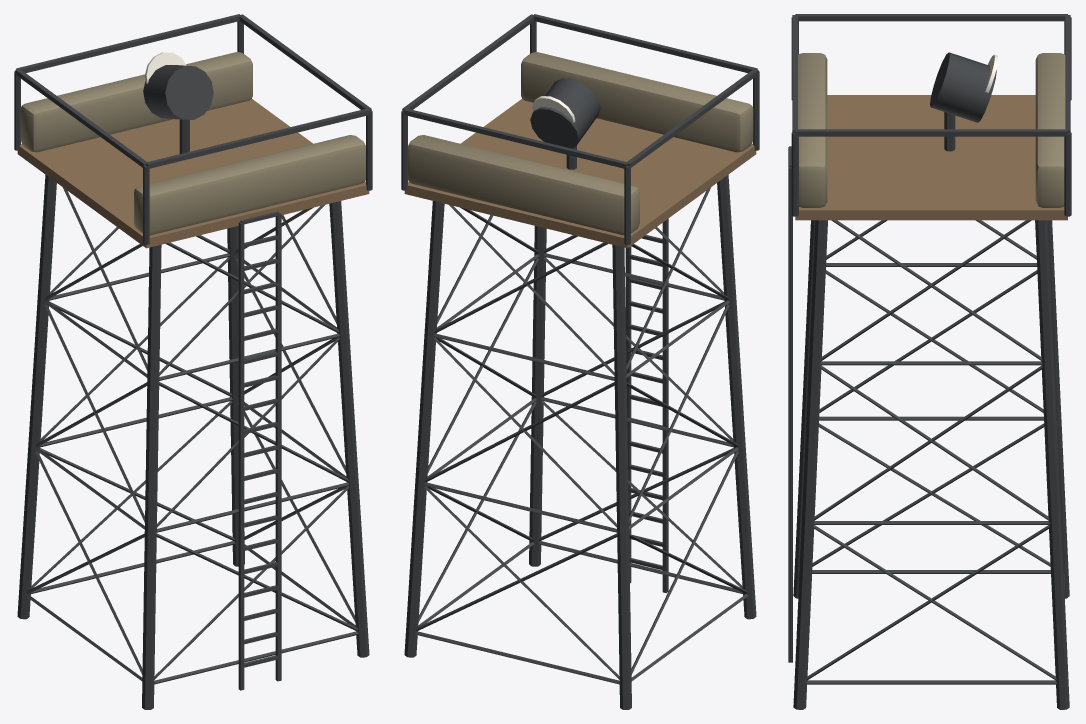
The model's file is ZR_SearchlightTower.fbx.
The picture shows the model from 3 angles, left to right: view 1: azimuth 30°, elevation 25°; view 2: azimuth 150°, elevation 25°; view 3: azimuth 270°, elevation 25°; orthographic projection. The views are drawn at different scales.
Parts seen in each view (by area): view 1: ZR_SearchlightTower; view 2: ZR_SearchlightTower; view 3: ZR_SearchlightTower.
Part boxes in pixels (box(x1,y1,x2,y2)): ZR_SearchlightTower: box(14, 14, 372, 709); ZR_SearchlightTower: box(401, 14, 759, 709); ZR_SearchlightTower: box(788, 14, 1071, 709).
Size of the model in its own units: 3.07 by 7.25 by 3.12.
